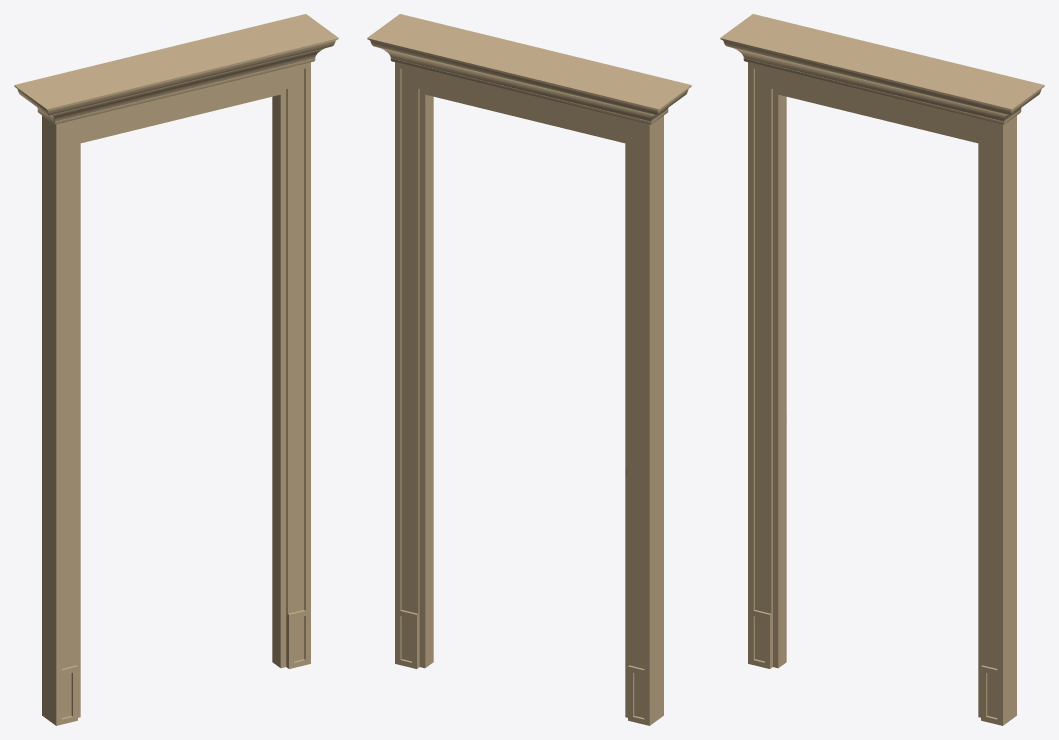
Rendered from 9_PREMIUM_FRAME.glb.
The picture shows the model from 3 angles, left to right: view 1: azimuth 30°, elevation 25°; view 2: azimuth 150°, elevation 25°; view 3: azimuth 330°, elevation 25°; orthographic projection.
Parts seen in each view (by area): view 1: 9_PREMIUM_FRAME; view 2: 9_PREMIUM_FRAME; view 3: 9_PREMIUM_FRAME.
Part boxes in pixels (x1,y1,x2,y2): 9_PREMIUM_FRAME: (14,14,338,725); 9_PREMIUM_FRAME: (367,14,691,725); 9_PREMIUM_FRAME: (720,14,1044,725).
Size of the model in its own units: 1.17 by 2.4 by 0.2298.
